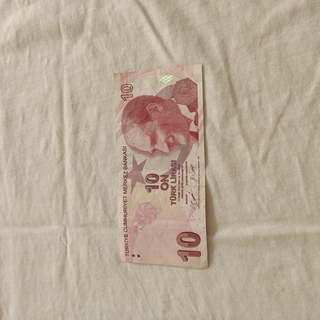10TLFront: (111, 62, 209, 269)
